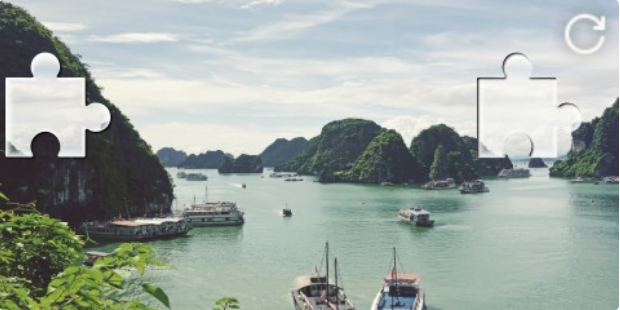target: (477, 52, 583, 158)
